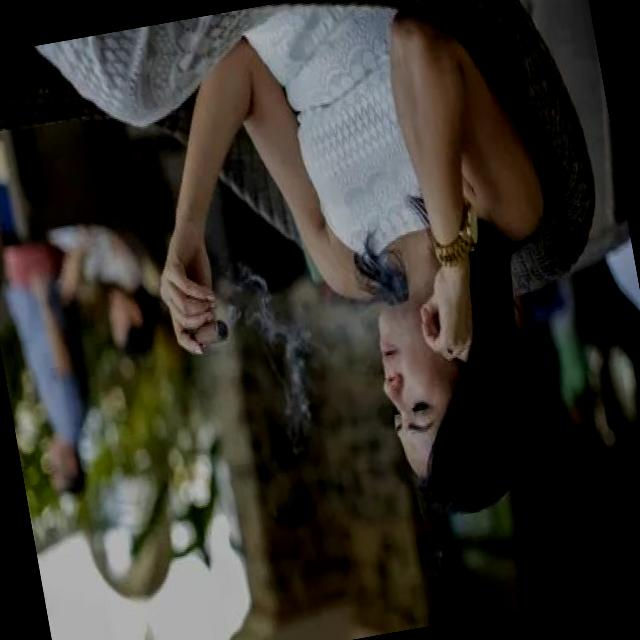cigarette: (183, 309, 236, 352)
